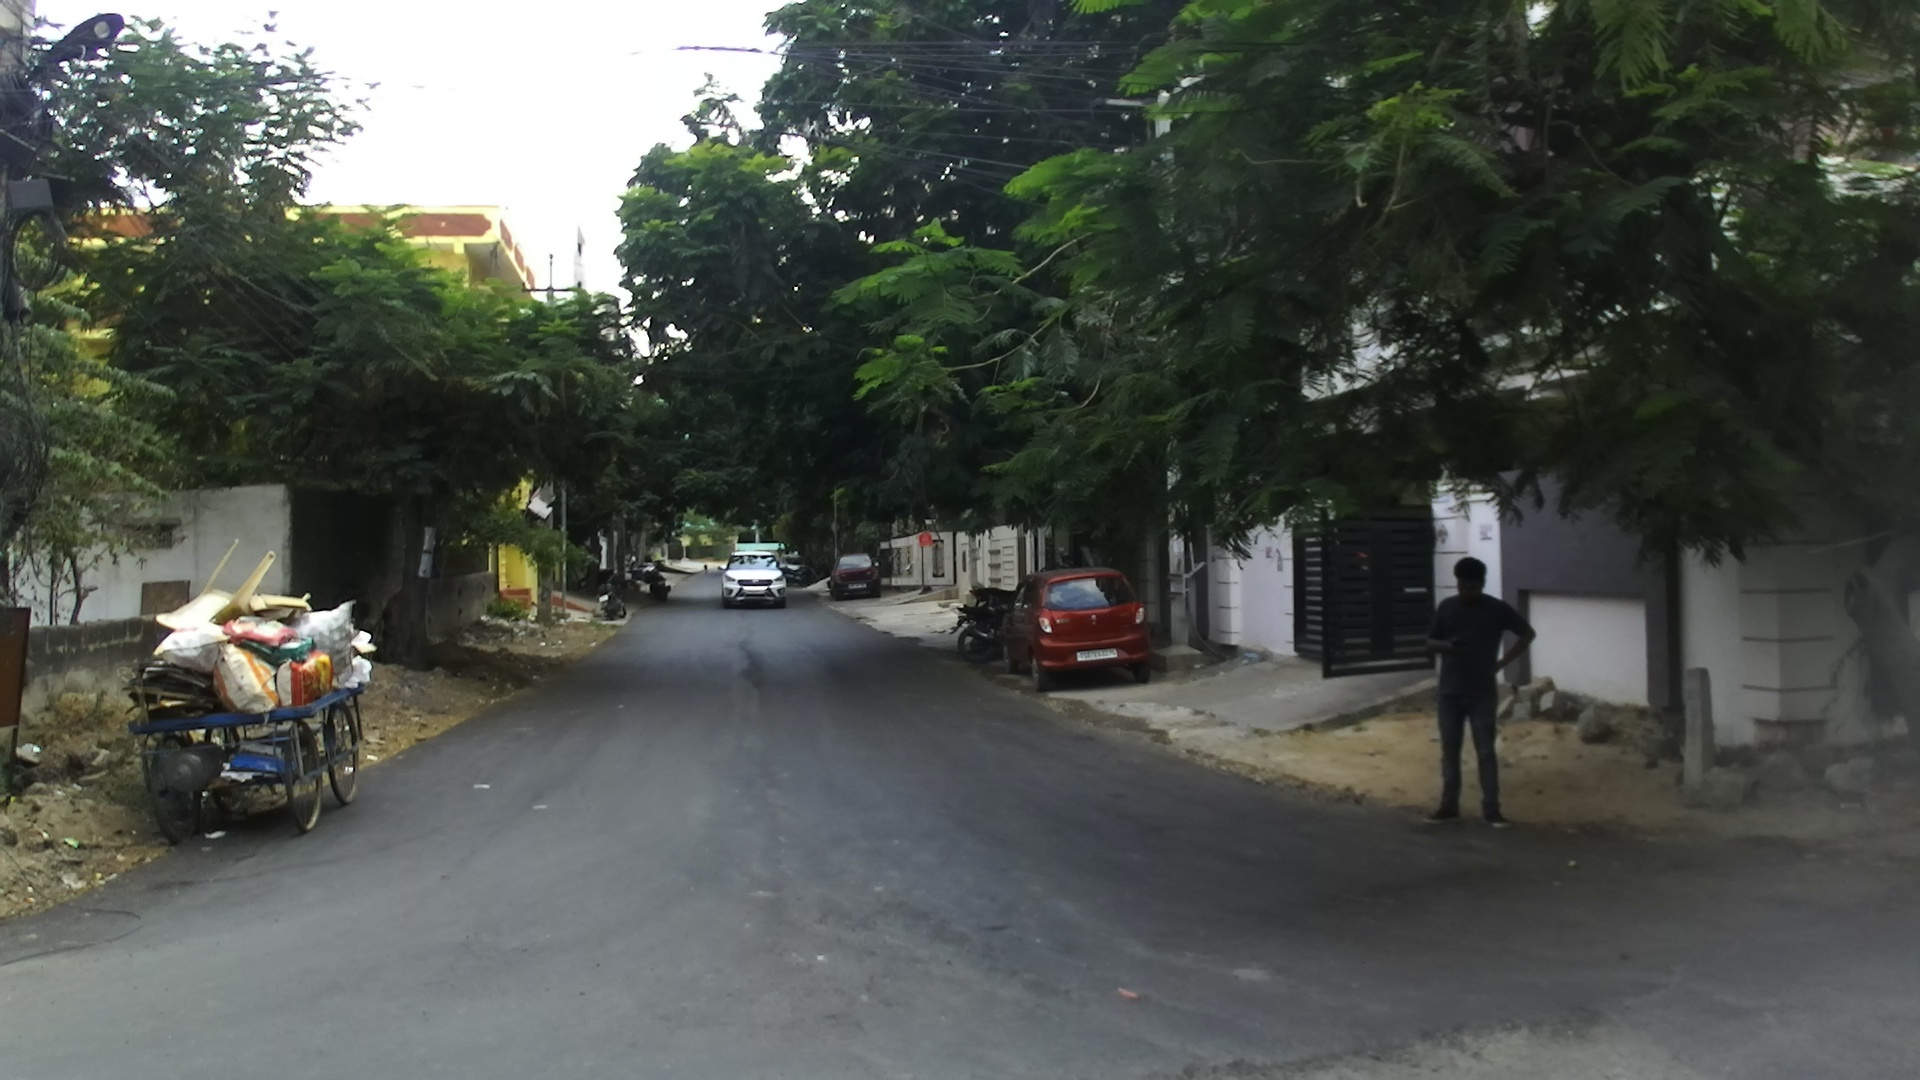vehicle: (129, 593, 378, 845), (994, 568, 1156, 684), (949, 585, 1013, 658), (719, 549, 789, 607), (832, 554, 878, 597)
